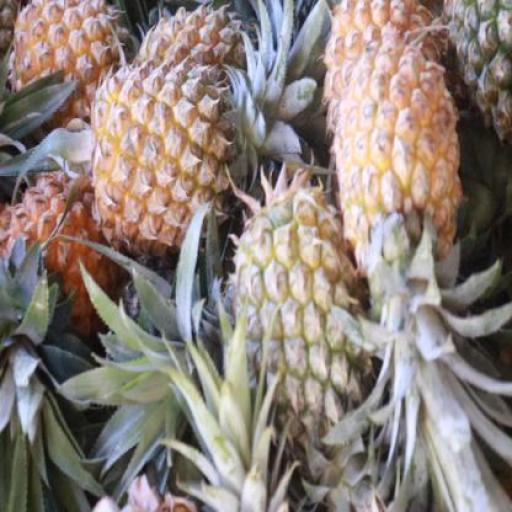------------------------------: (220, 189, 366, 439)
Pineapple - v8 v1: (344, 53, 458, 297), (94, 64, 232, 245)
